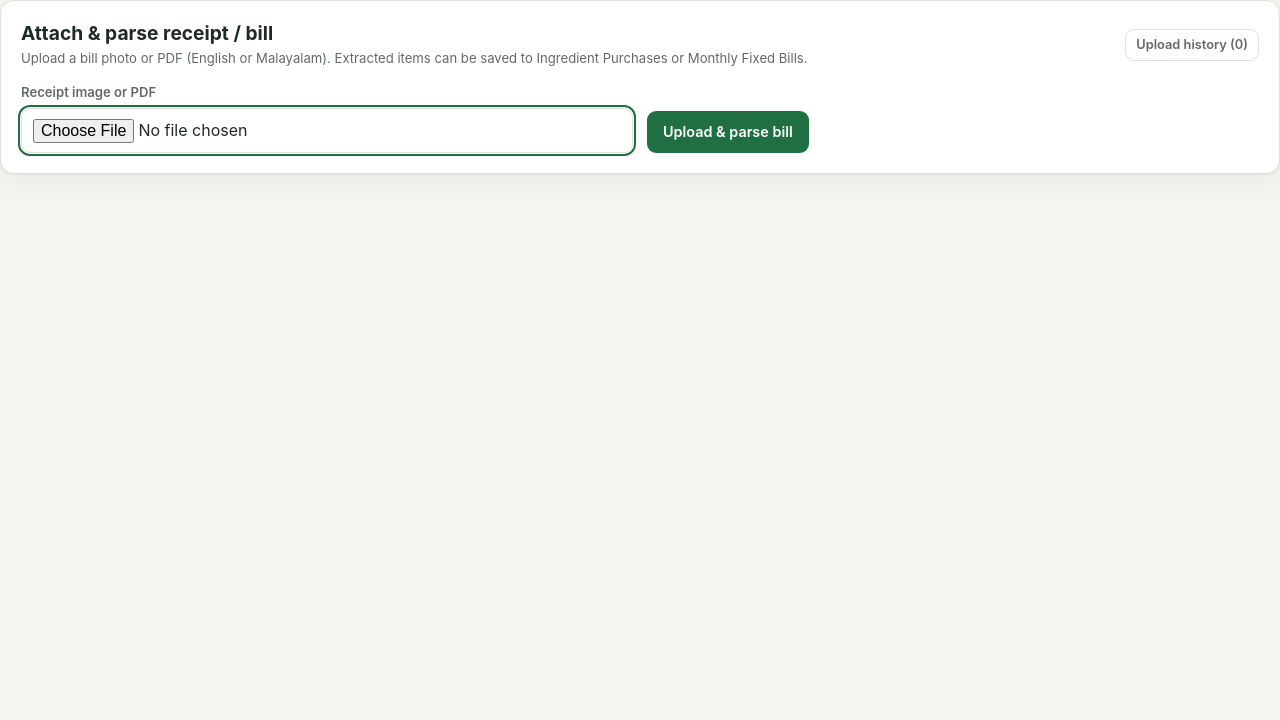
Test: ReceiptScanner › uploads, parses, and saves both ingredient purchases and fixed bills with receipt attached
Earlier steps of the test are not shown.
Later steps or results of the test are not shown.
Click the button "Upload & parse bill": (728, 132) [647,111,809,153]
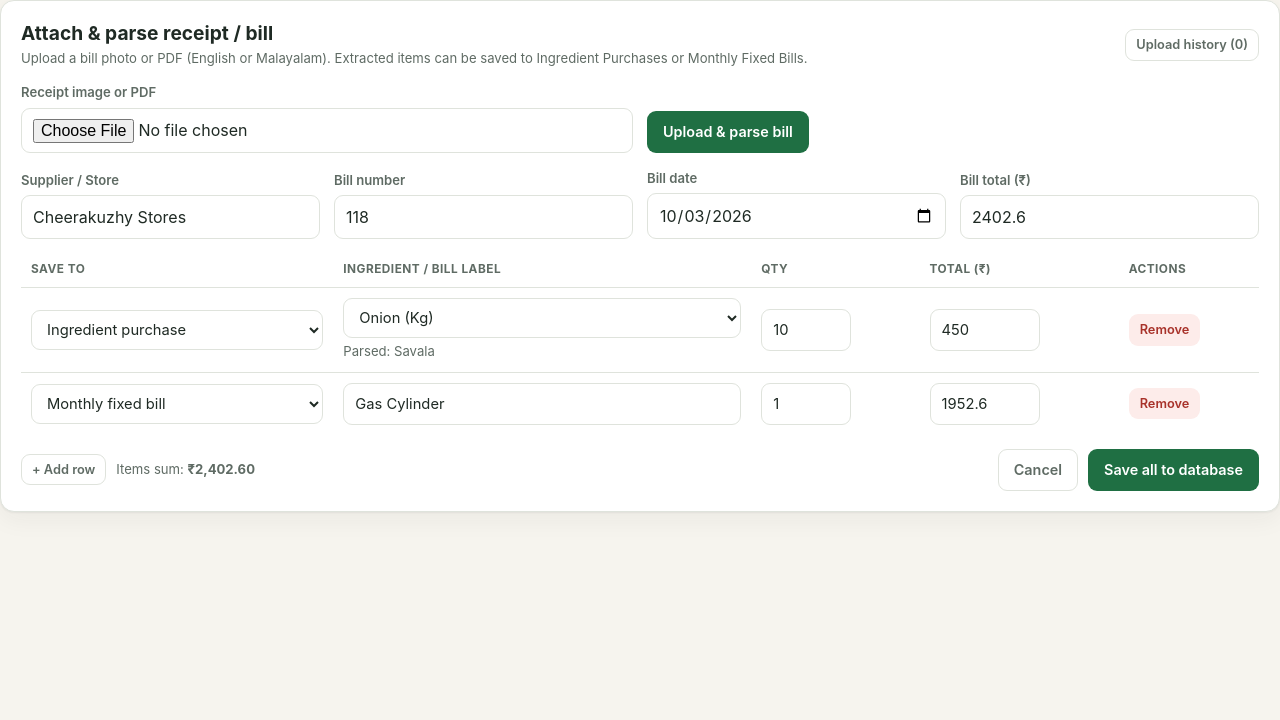
Check: the field showing "Cheerakuzhy Stores" is shown, box [21,195,320,239]
Check: the field showing "Gas Cylinder" is shown, box [343,383,741,425]
